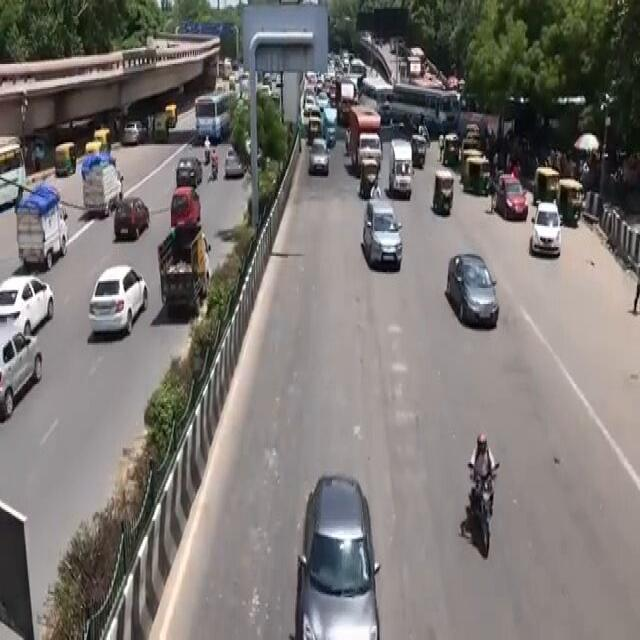three_wheeler: (426, 165, 465, 231)
